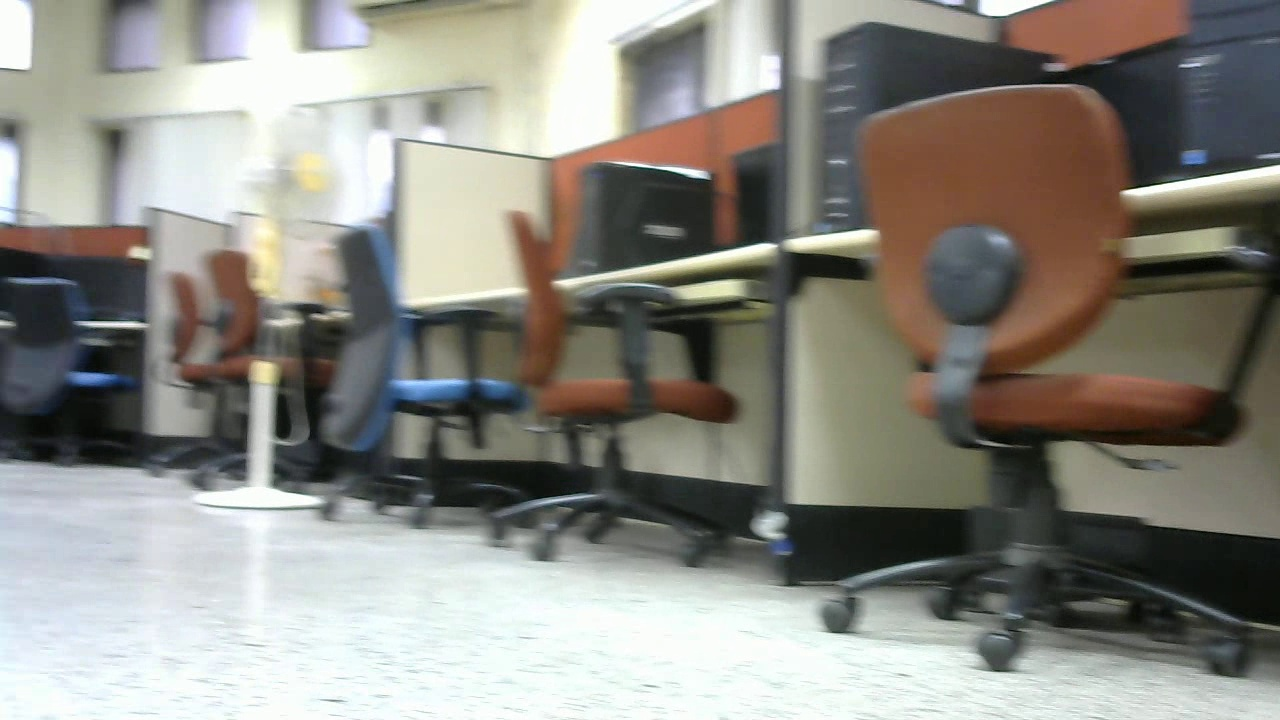chair: (824, 98, 1280, 682), (487, 207, 744, 578), (311, 214, 530, 537), (158, 249, 338, 488), (7, 272, 142, 460)
